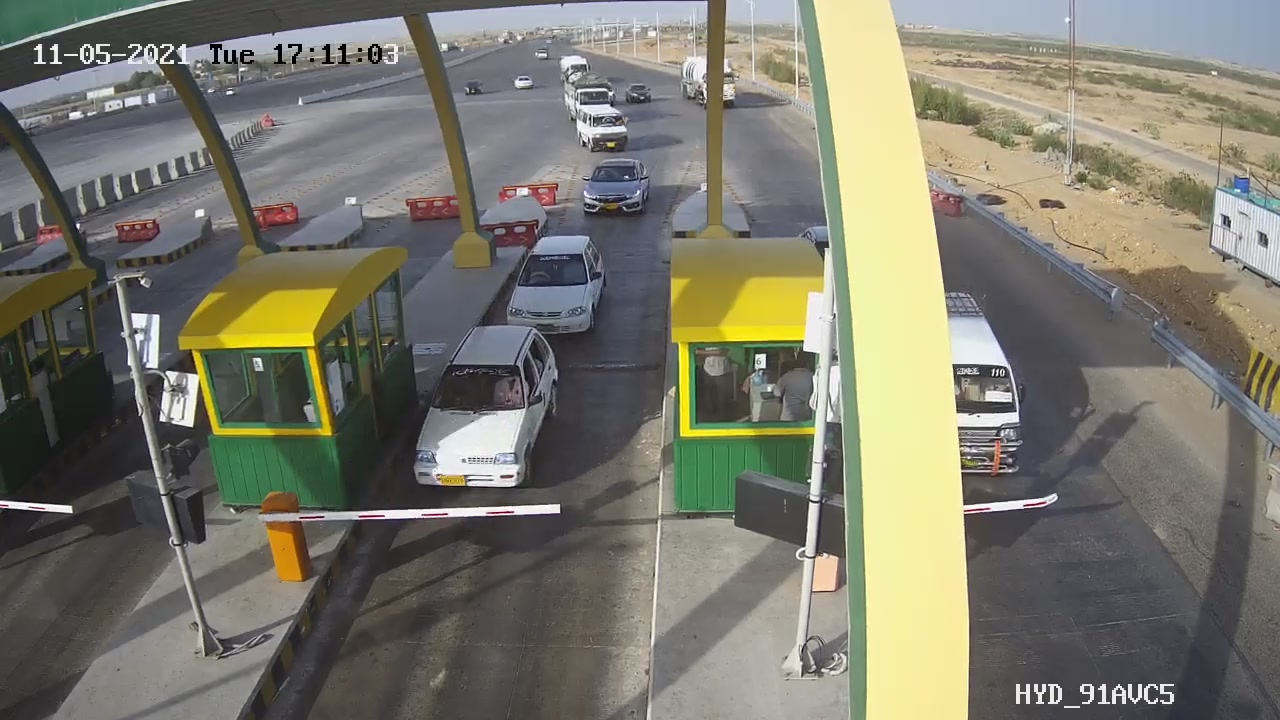F1: (398, 314, 576, 500), (487, 225, 625, 349)
